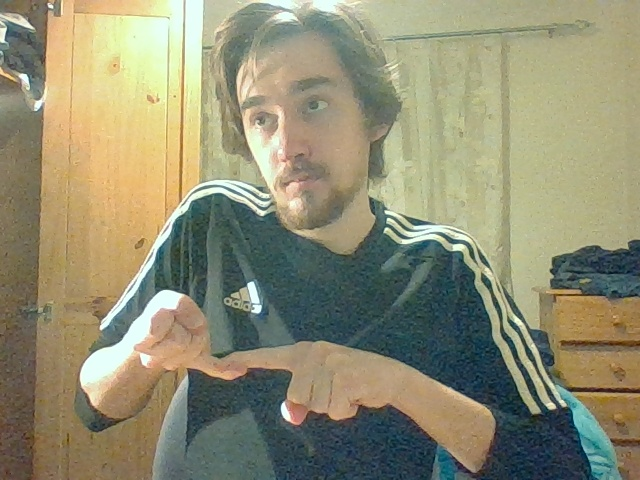step: (139, 290, 359, 424)
